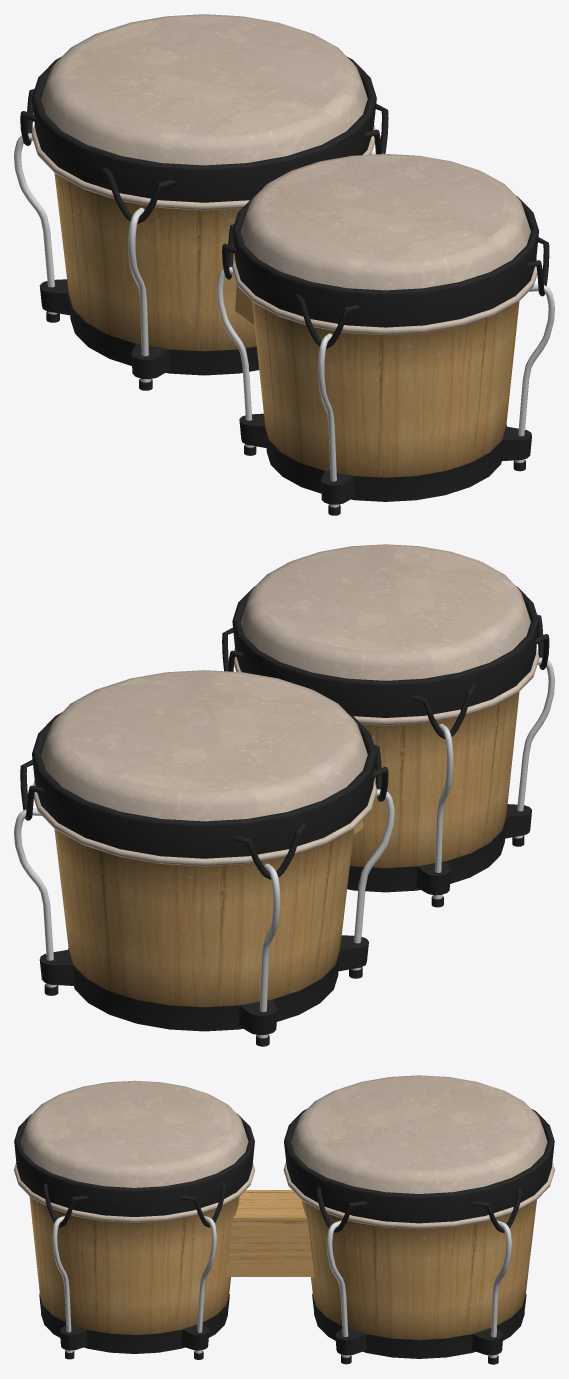
The model's file is bongos.glb.
The picture shows the model from 3 angles, top to bottom: view 1: azimuth 30°, elevation 25°; view 2: azimuth 150°, elevation 25°; view 3: azimuth 270°, elevation 25°; orthographic projection. The views are drawn at different scales.
Visible parts, largest first — view 1: Cube.001; view 2: Cube.001; view 3: Cube.001.
Boxes of the visible parts, left/top/right/bottom form: Cube.001: left=14, top=14, right=554, bottom=515; Cube.001: left=14, top=544, right=554, bottom=1046; Cube.001: left=14, top=1075, right=554, bottom=1364.
Bounding box in the file's own units: 16.2 × 13.08 × 32.29.
Materials: 1 (1 with a texture image).
